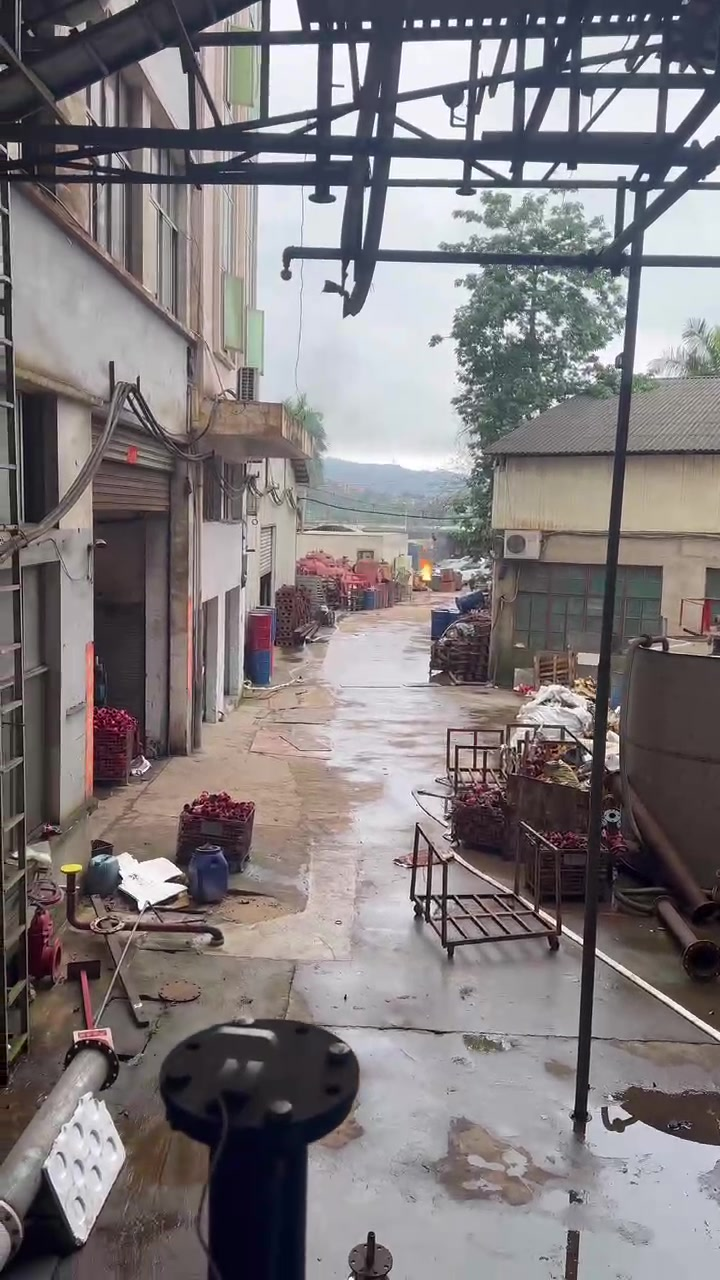fire: (419, 560, 431, 580)
